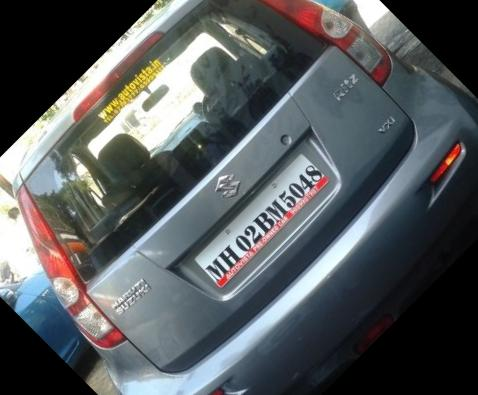plate: (180, 141, 345, 305)
